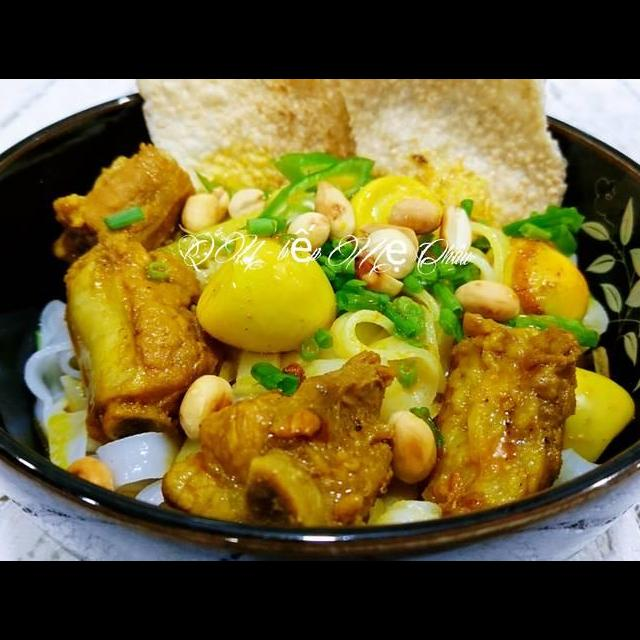banh da: (333, 80, 572, 238), (131, 80, 369, 206)
mi: (224, 280, 460, 433), (19, 294, 181, 511)
thit heo: (157, 346, 402, 539), (59, 227, 230, 441), (421, 306, 587, 523), (49, 139, 200, 269)
trung: (189, 231, 341, 358), (477, 233, 593, 335), (555, 362, 639, 467)
